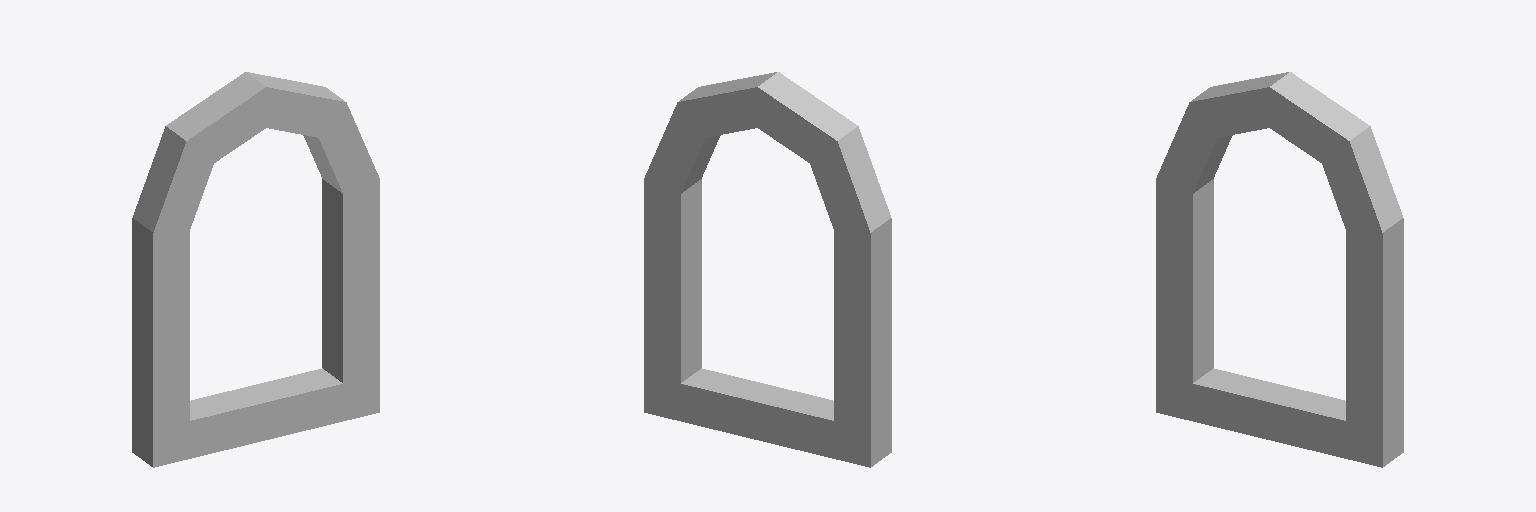
The model's file is window-white-round-wide.obj.
The picture shows the model from 3 angles: view 1: azimuth 30°, elevation 25°; view 2: azimuth 150°, elevation 25°; view 3: azimuth 330°, elevation 25°; orthographic projection.
Visible parts, largest first — view 1: window-white-round-wide; view 2: window-white-round-wide; view 3: window-white-round-wide.
Part boxes in pixels (left/top/right/bottom): window-white-round-wide: left=132, top=72, right=379, bottom=467; window-white-round-wide: left=644, top=72, right=891, bottom=467; window-white-round-wide: left=1156, top=72, right=1403, bottom=467.
Size of the model in its own units: 0.3125 by 0.4663 by 0.05.